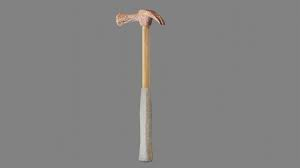hammer: (114, 7, 168, 162)
